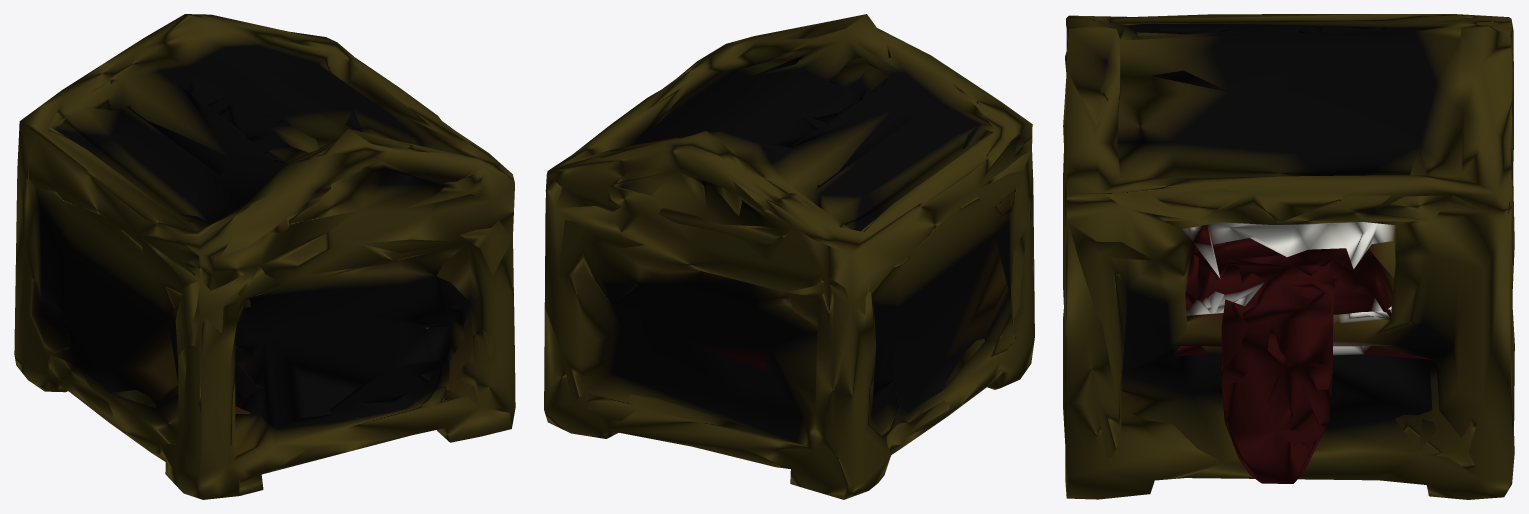
File: gen3d-mimic-chest-lod0.glb
The picture shows the model from 3 angles, left to right: view 1: azimuth 30°, elevation 25°; view 2: azimuth 150°, elevation 25°; view 3: azimuth 270°, elevation 25°; orthographic projection. The views are drawn at different scales.
Parts seen in each view (by area): view 1: part_0; view 2: part_0; view 3: part_0.
Boxes of the visible parts, x1=… form: part_0: x1=14, y1=14, x2=515, y2=499; part_0: x1=544, y1=14, x2=1034, y2=499; part_0: x1=1063, y1=14, x2=1514, y2=499.
Size of the model in its own units: 1.23 by 0.9996 by 1.05.
